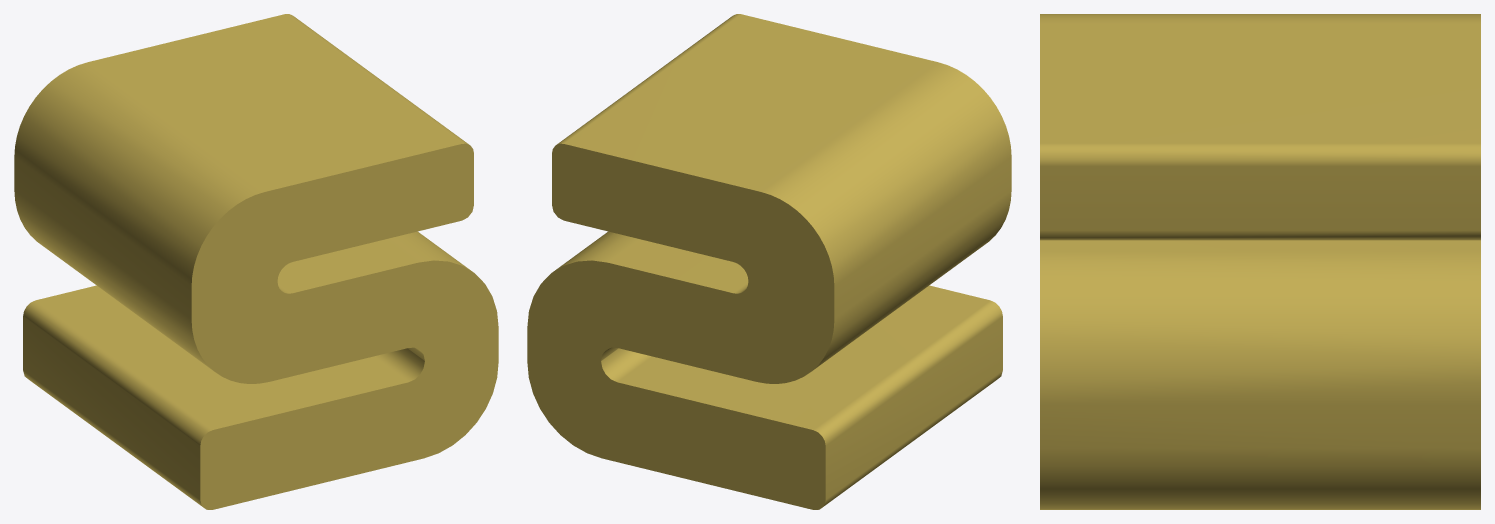
The picture shows the model from 3 angles, left to right: view 1: azimuth 30°, elevation 25°; view 2: azimuth 150°, elevation 25°; view 3: azimuth 270°, elevation 25°; orthographic projection. The views are drawn at different scales.
Parts seen in each view (by area): view 1: Object_2; view 2: Object_2; view 3: Object_2.
Boxes of the visible parts, x1,y1,x2,y2 form: Object_2: [14, 14, 498, 509]; Object_2: [527, 14, 1011, 509]; Object_2: [1040, 14, 1480, 509].
Bounding box in the file's own units: 50.01 × 47.51 × 50.
